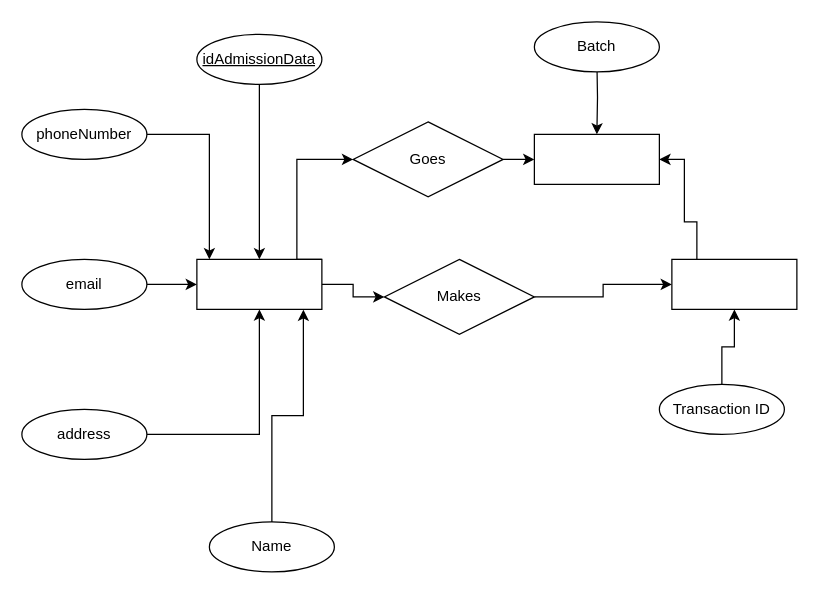
This 819x594 diagram has some shape labels left out. Here are the shapes that lost their labels. From the top down, the box of each, then its label:
(533, 133, 659, 184): Ayurveda Centre
(196, 258, 322, 309): Member
(671, 258, 797, 309): Payment
